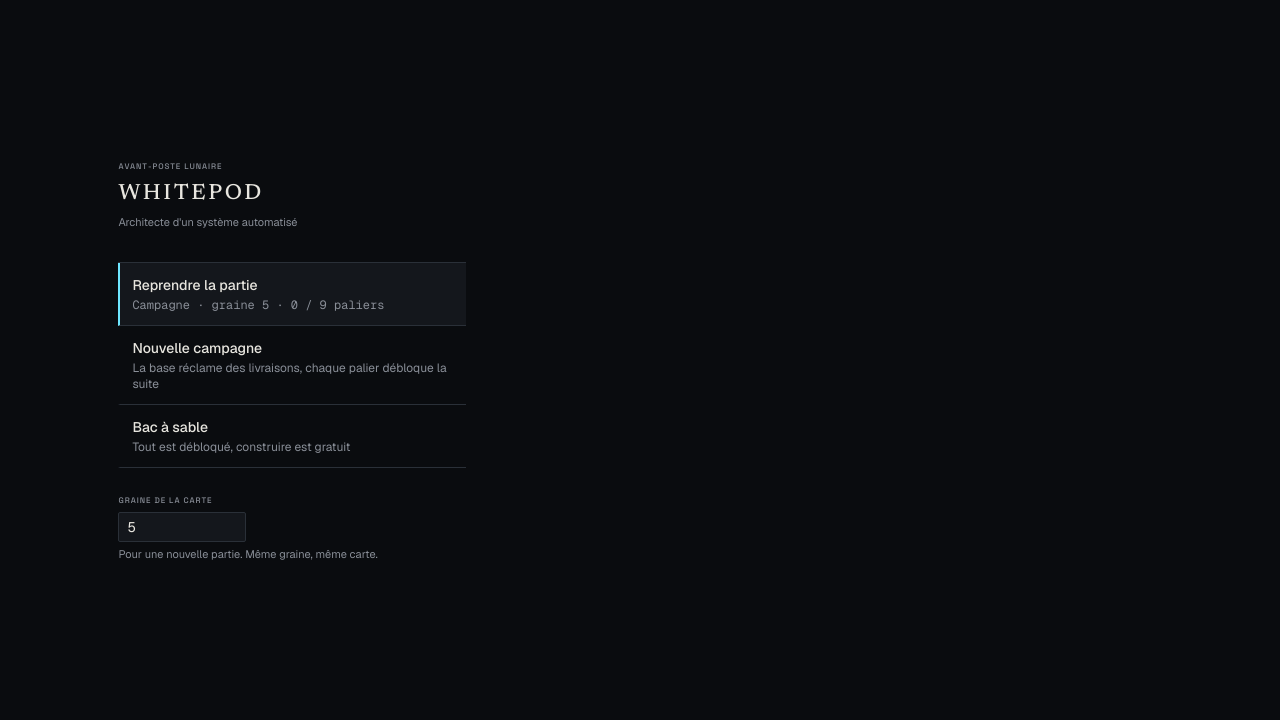
it: StartScreen over a running game › always confirms a new game, since one is running
Later steps or results of the test are not shown.
Step 1. Click the button "Nouvelle campagne" → (292, 366), box 118,326 -> 466,405
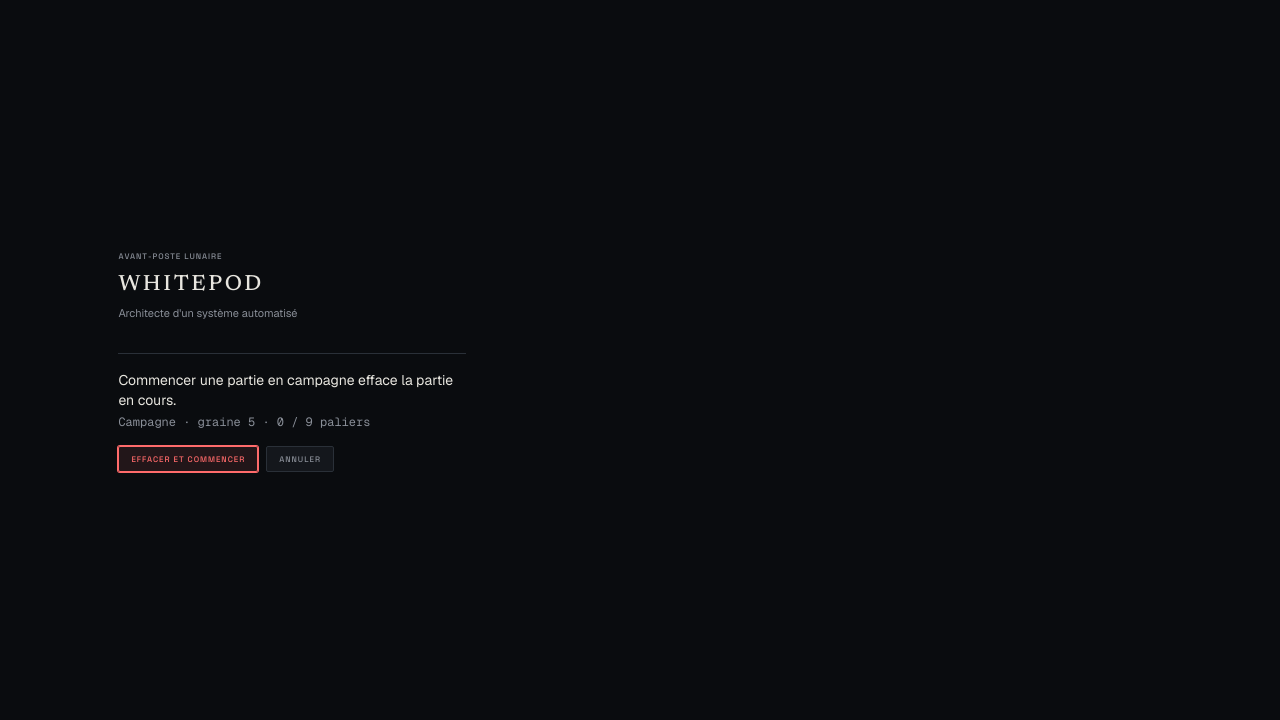
Check: the dialog is shown, box 118,353 -> 466,472
